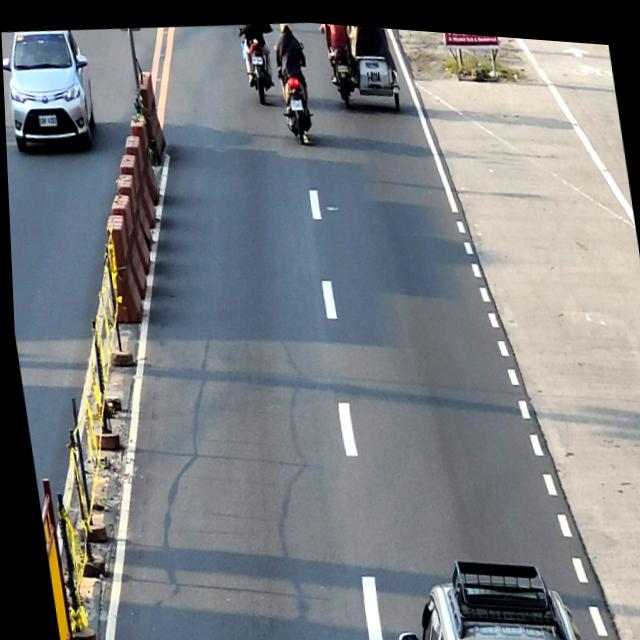Car: (382, 539, 595, 640), (1, 23, 99, 153)
License-Plate: (37, 113, 56, 126), (289, 93, 302, 106), (250, 51, 263, 62), (337, 58, 347, 69)
Motorcycle: (272, 34, 316, 140), (238, 18, 277, 102)
Tricycle: (324, 19, 401, 109)
